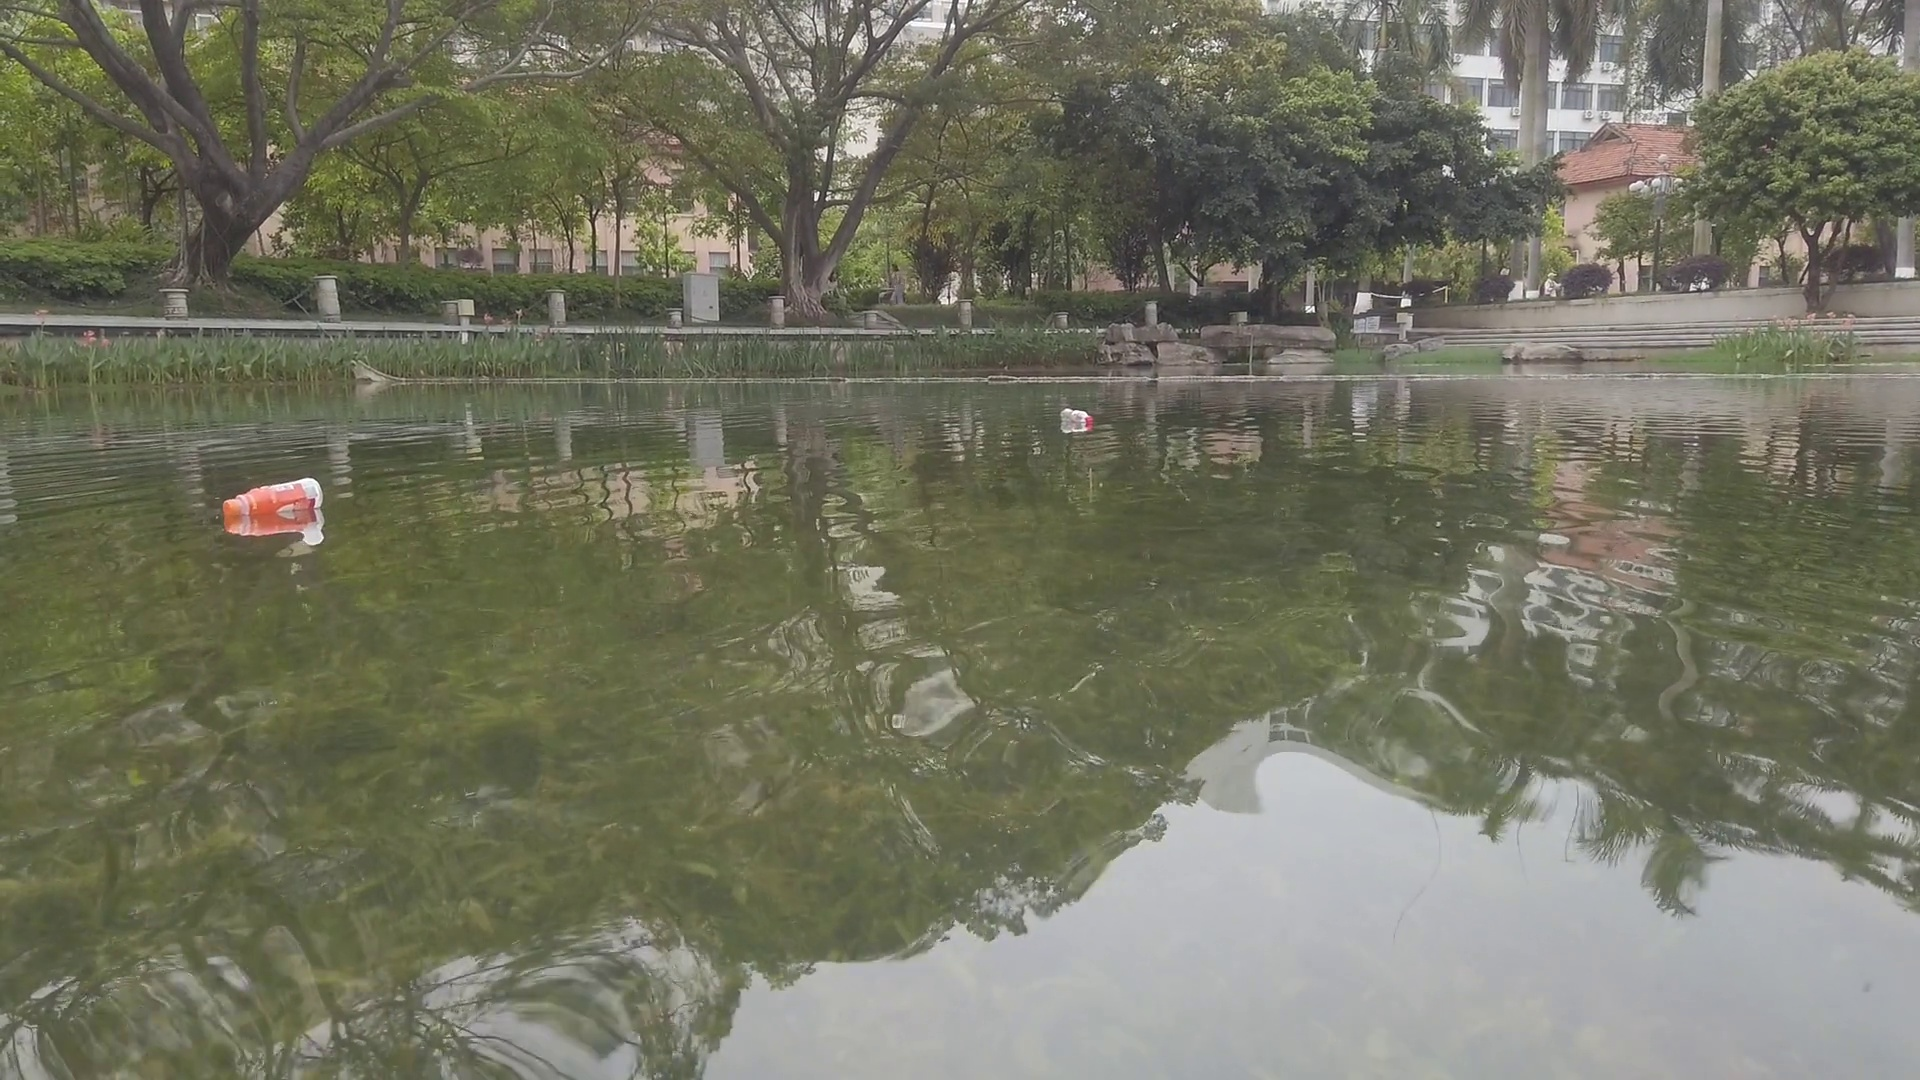bottle: (220, 477, 324, 520), (1059, 407, 1093, 427)
